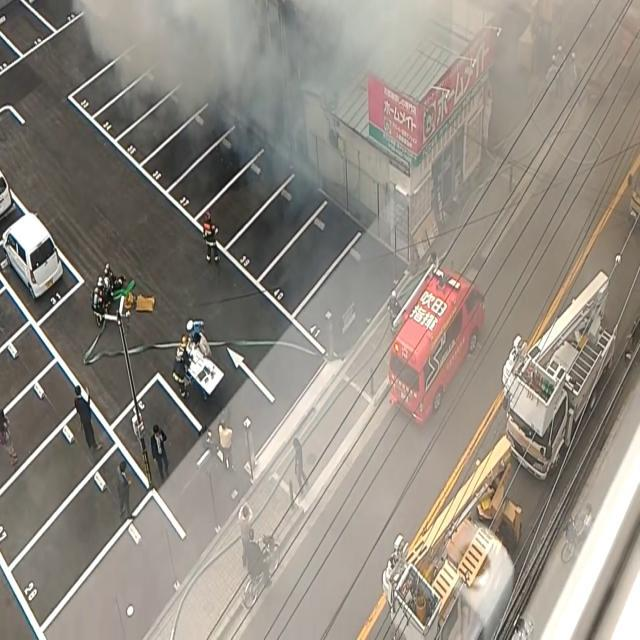Smoke: (74, 0, 368, 184)
